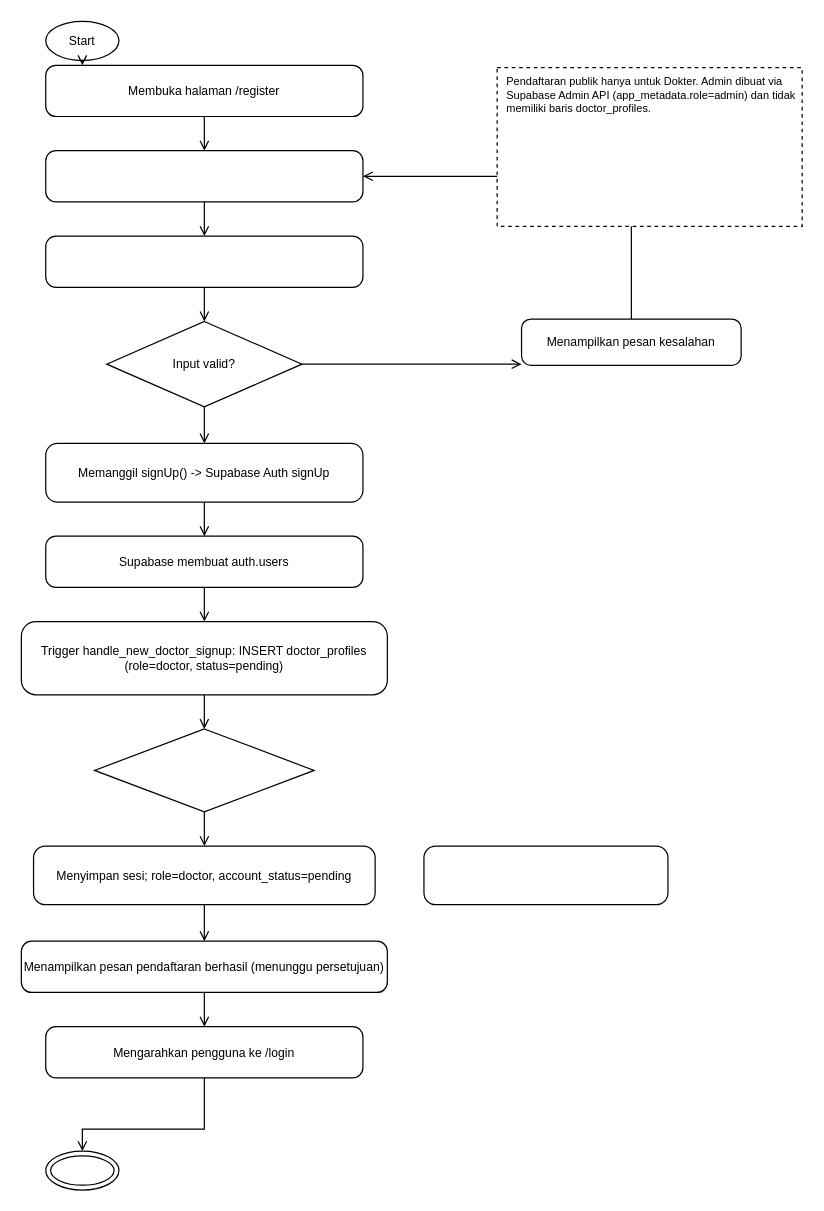
This 824x1211 diagram has some shape labels left out. Here are the shapes that lost their labels. From the top down, the box of each, then its label:
(45, 149, 363, 202): Mengisi formulir pendaftaran
(45, 235, 363, 287): Memvalidasi input (wajib, email, sandi >= 6)
(93, 728, 314, 812): Sesi dikembalikan?
(423, 845, 668, 905): Menampilkan instruksi konfirmasi email
(45, 1150, 119, 1190): End
